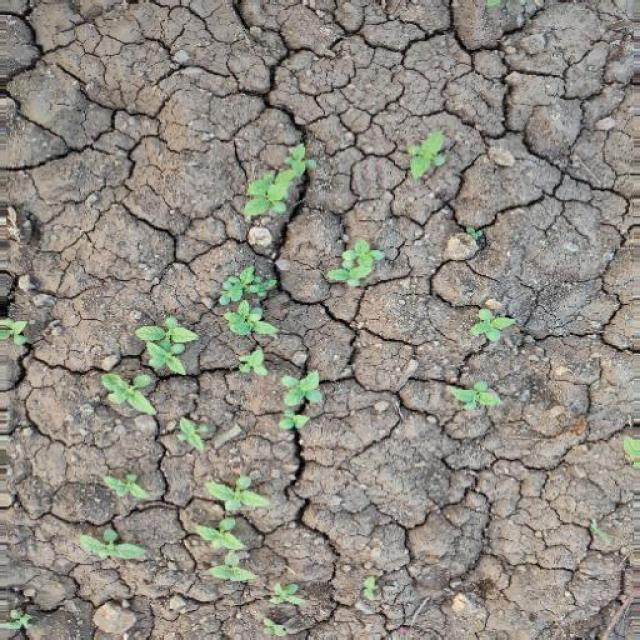crop: (98, 306, 198, 419), (188, 471, 274, 594), (240, 134, 319, 216), (218, 294, 268, 378), (69, 520, 149, 570), (325, 232, 386, 290), (274, 367, 324, 435), (405, 122, 449, 178), (470, 299, 515, 349), (448, 376, 504, 414), (100, 463, 149, 505)
